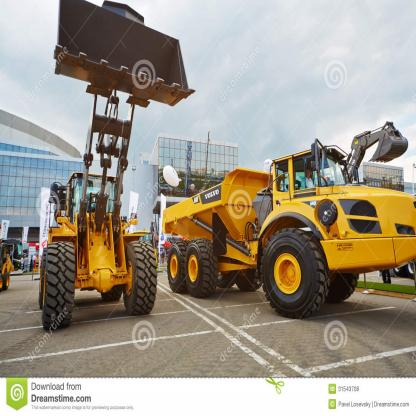bull_dozer/loader/grader: (34, 4, 188, 328)
dump_truck: (165, 140, 416, 331)
